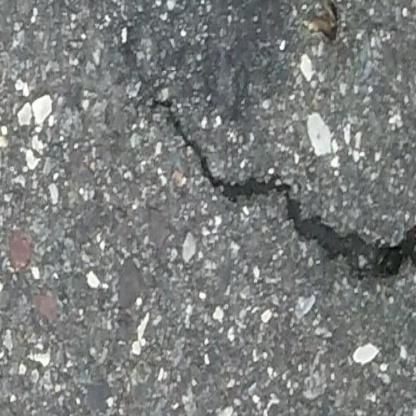Cracks: (116, 33, 416, 283)
